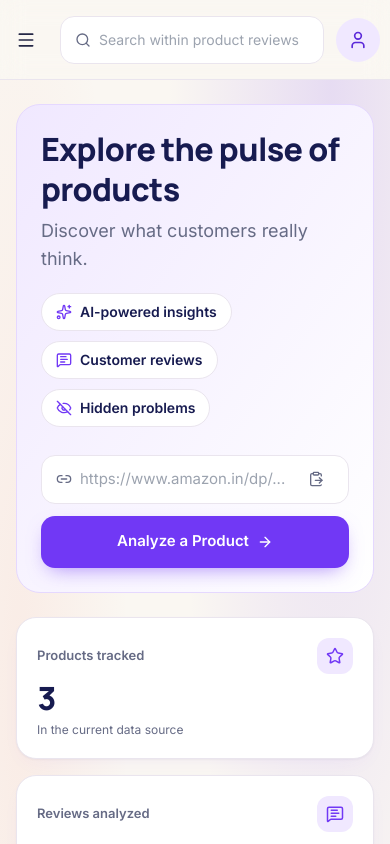
Scenario: Interactive On-Demand Tool Integrations › NAV-02 & NAV-08: mobile drawer opens via hamburger and closes on backdrop click
Step 1. Click the button named "Open navigation" → (26, 40), box [16, 18, 36, 62]
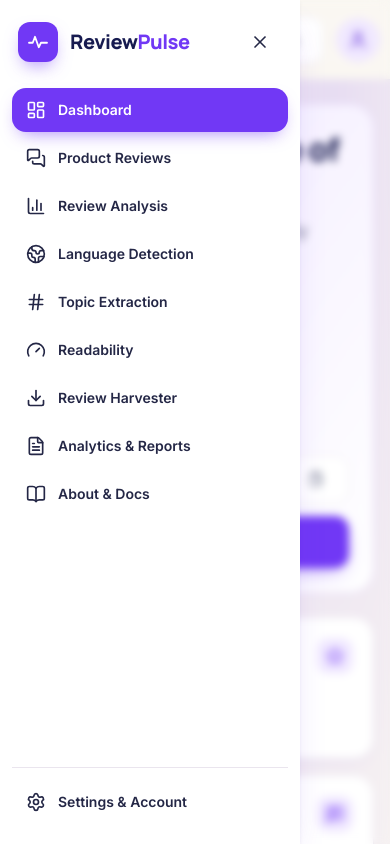
Now the dialog named "Navigation" is shown
Step 2. Click the 1st button named "Close navigation" → (367, 422), box [0, 0, 389, 843]
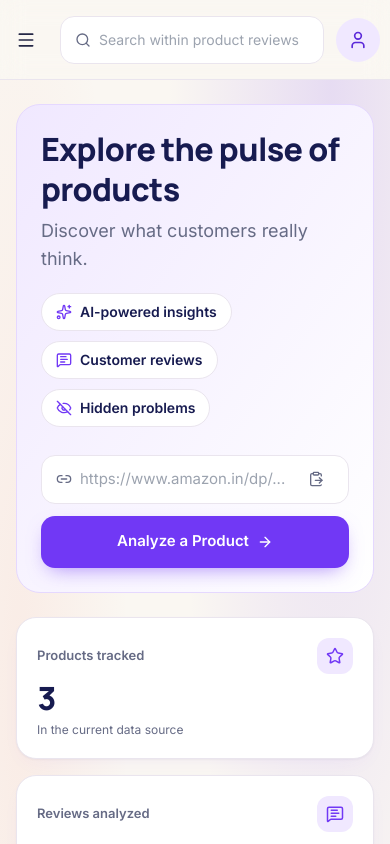
Now the button "Navigation" is gone
